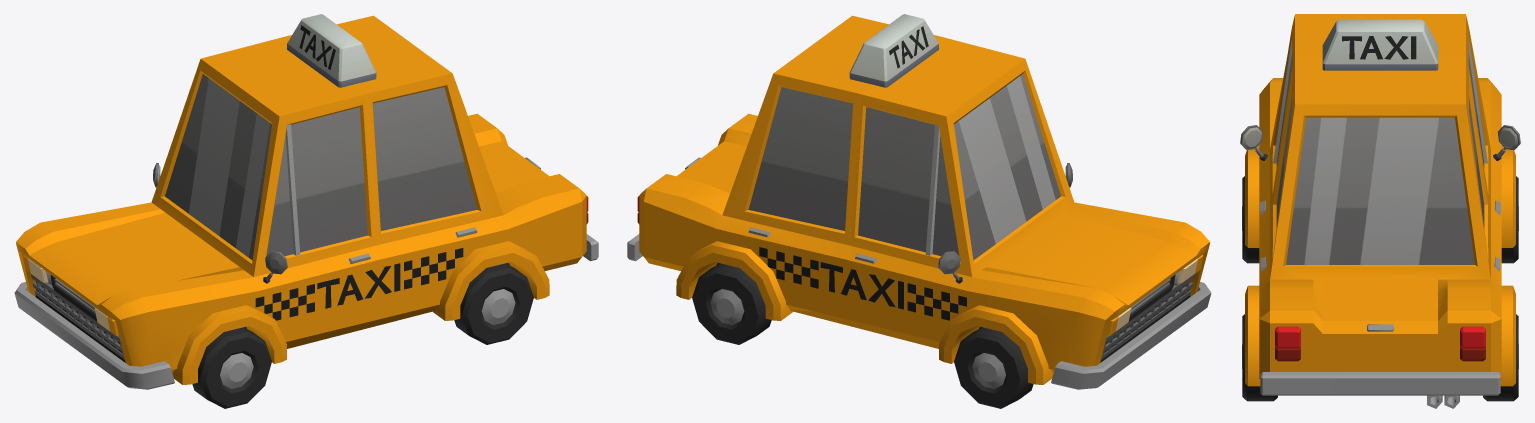
The model's file is Taxi_4.fbx.
3 renders of one model, left to right at view 1: azimuth 30°, elevation 25°; view 2: azimuth 150°, elevation 25°; view 3: azimuth 270°, elevation 25°, orthographic. The views are drawn at different scales.
Parts seen in each view (by area): view 1: Taxi_4, FL, RL; view 2: Taxi_4, FR, RR; view 3: Taxi_4, RL, RR, FL, FR.
Boxes of the visible parts, <box> form: Taxi_4: <box>14,14,598,389</box>; FL: <box>192,327,271,408</box>; RL: <box>454,263,533,344</box>; Taxi_4: <box>627,14,1211,389</box>; FR: <box>954,327,1033,408</box>; RR: <box>692,263,771,344</box>; Taxi_4: <box>1240,14,1520,408</box>; RL: <box>1242,314,1277,401</box>; RR: <box>1483,314,1518,401</box>; FL: <box>1242,176,1259,263</box>; FR: <box>1501,176,1518,263</box>.
Bounding box in the file's own units: 3.53 × 2.05 × 1.65.
